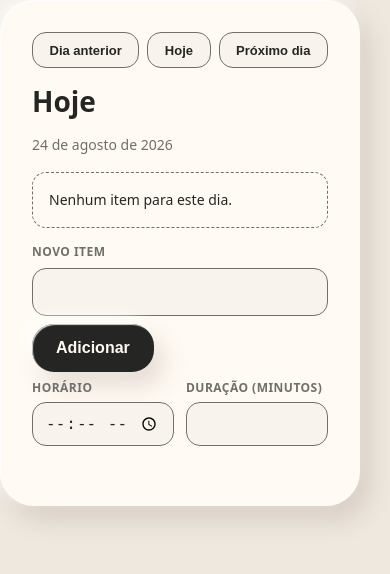
Test: DailyAgenda › navigates forward and back to today repeatedly
Click the button "Próximo dia". click: (273, 50)
box: [218,32,328,68]
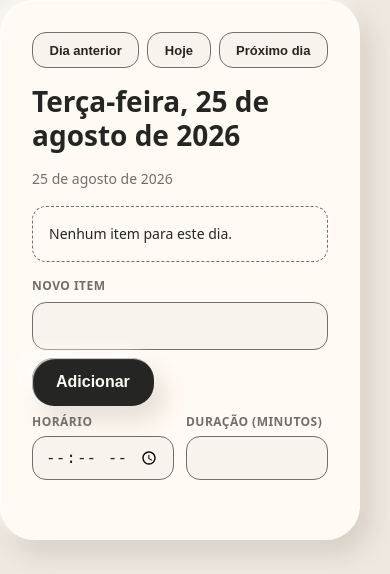
Click the button "Próximo dia". click: (273, 50)
box: [218,32,328,68]
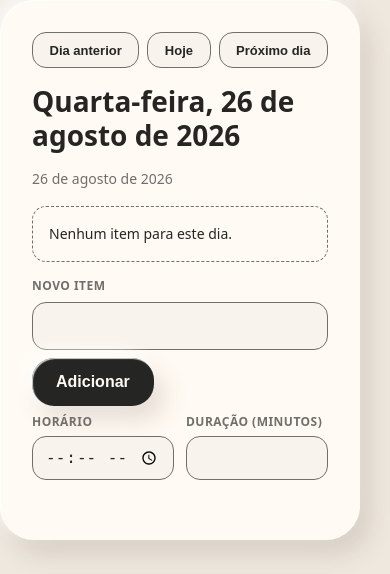
Result: the text "26 de agosto de 2026" is shown at [32,169,173,188]
Click the button "Dia anterior". click: (86, 50)
box: [32,32,139,68]
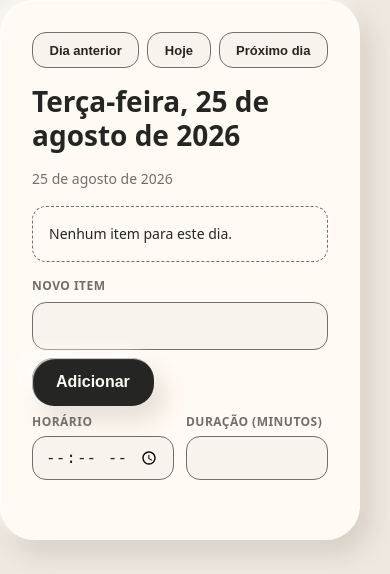
Result: the text "25 de agosto de 2026" is shown at [32,169,173,188]
Click the button "Hoje". click: (179, 50)
box: [147,32,210,68]
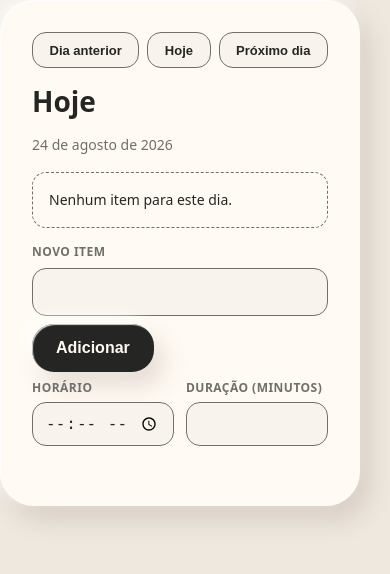
Result: the heading "Hoje" is shown at [32,82,96,120]
